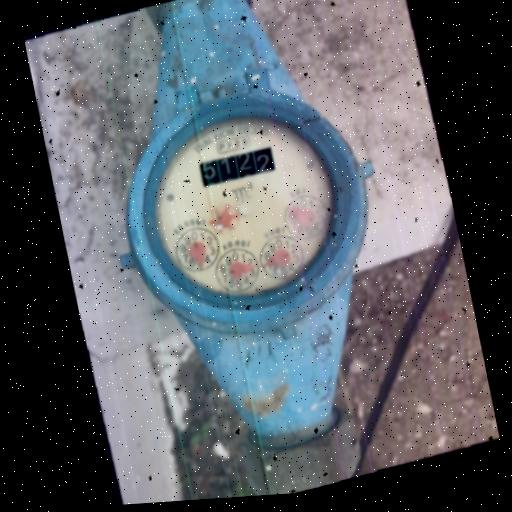1: (217, 154, 239, 183)
2: (253, 146, 276, 173), (235, 151, 256, 178)
5: (199, 159, 221, 187)
border_water_meter_number: (198, 144, 276, 189)
